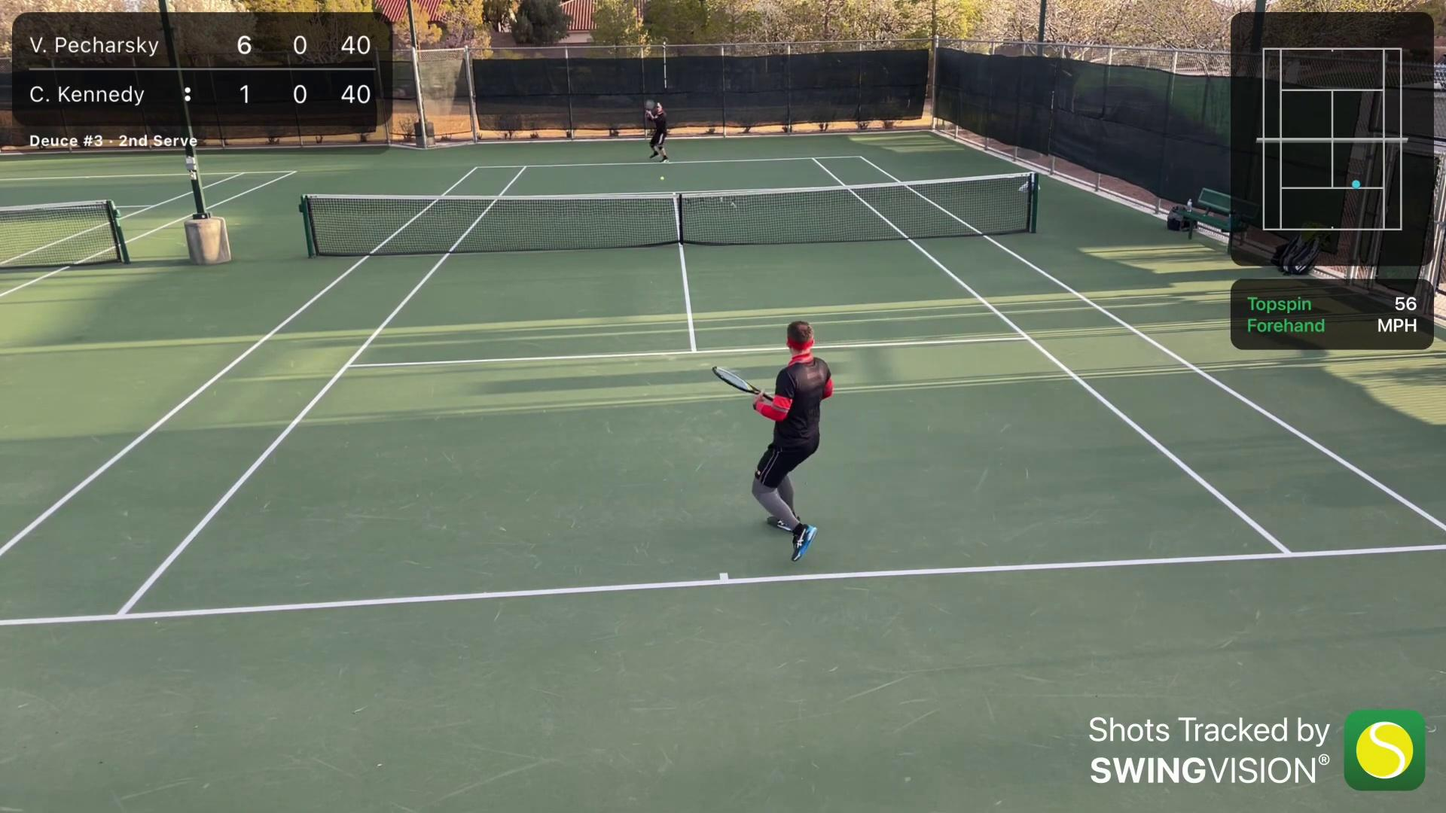ball: (658, 175, 665, 182)
